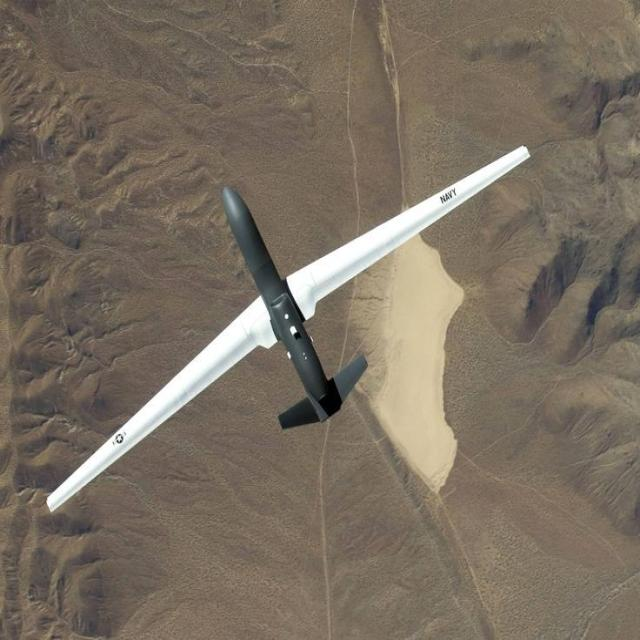iha: (46, 137, 530, 510)
